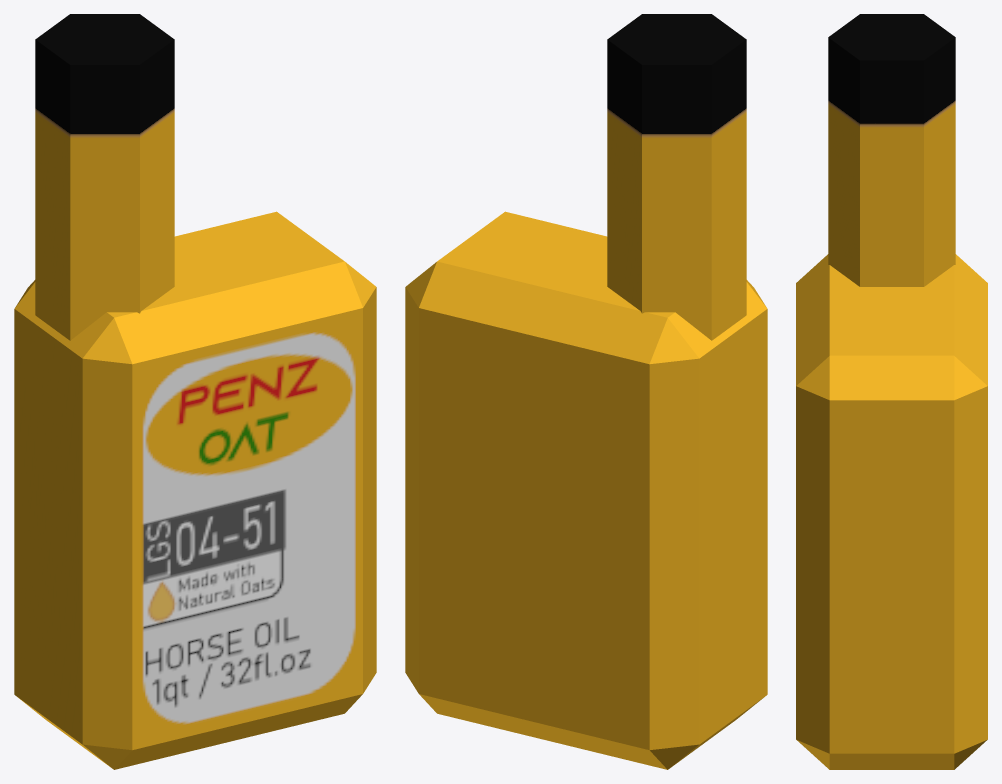
File: mod_item_oilbottle.fbx
The picture shows the model from 3 angles, left to right: view 1: azimuth 30°, elevation 25°; view 2: azimuth 150°, elevation 25°; view 3: azimuth 270°, elevation 25°; orthographic projection. The views are drawn at different scales.
Visible parts, largest first — view 1: mesh_oilbottle; view 2: mesh_oilbottle; view 3: mesh_oilbottle.
Part boxes in pixels (x1=…): mesh_oilbottle: x1=14, y1=14, x2=376, y2=769; mesh_oilbottle: x1=405, y1=14, x2=767, y2=769; mesh_oilbottle: x1=796, y1=14, x2=987, y2=769.
Size of the model in its own units: 195 by 443 by 120.
